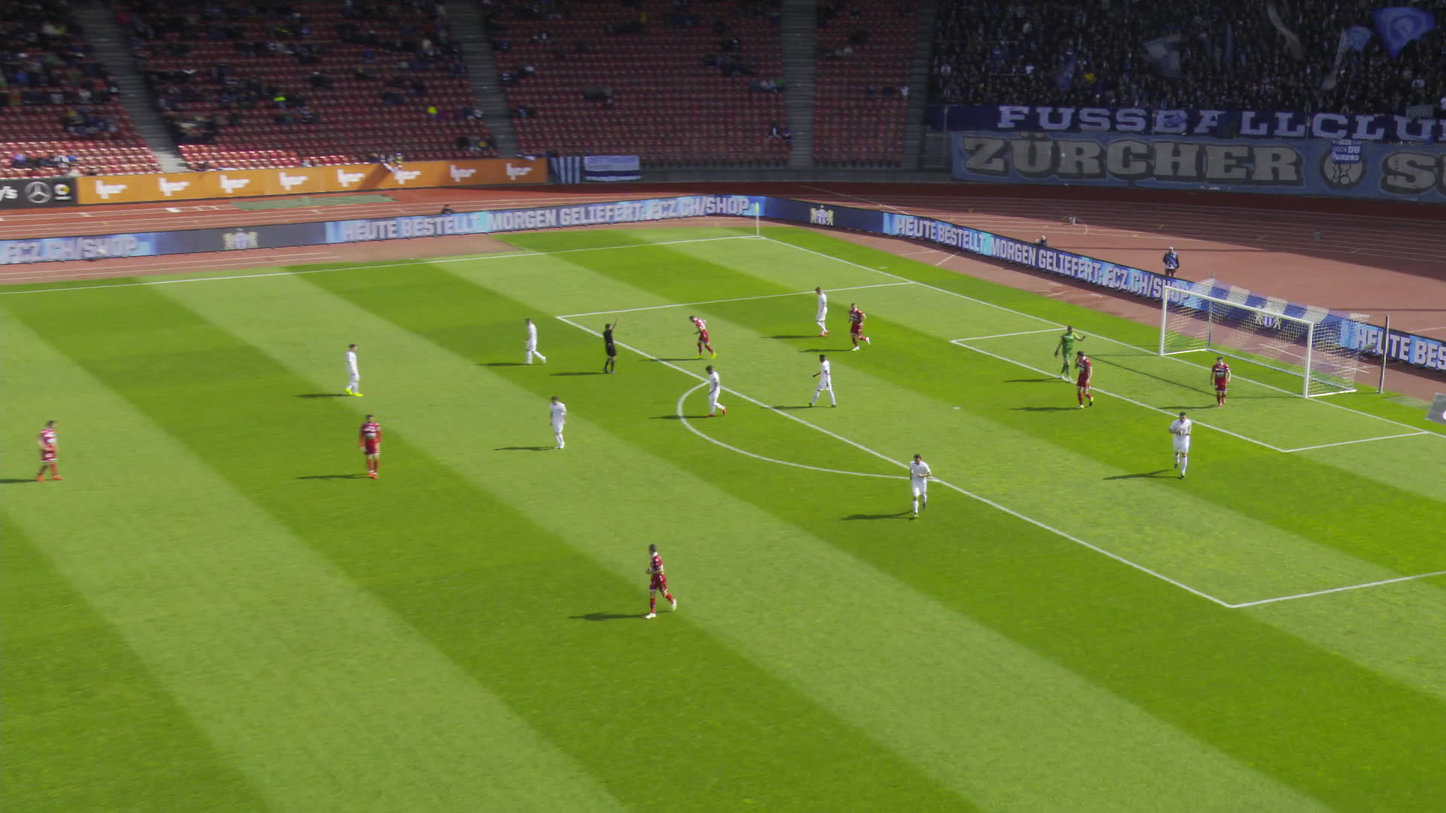player: (642, 545, 673, 618), (1164, 411, 1191, 480), (24, 419, 53, 483), (1054, 324, 1084, 382), (354, 413, 379, 480), (539, 398, 568, 453), (1072, 351, 1097, 411), (517, 317, 544, 370), (906, 454, 929, 516), (809, 354, 834, 409), (700, 365, 725, 418), (337, 344, 360, 400), (845, 300, 869, 351), (686, 315, 712, 361), (1208, 356, 1231, 407), (810, 285, 831, 337)
referee: (597, 318, 618, 376)
